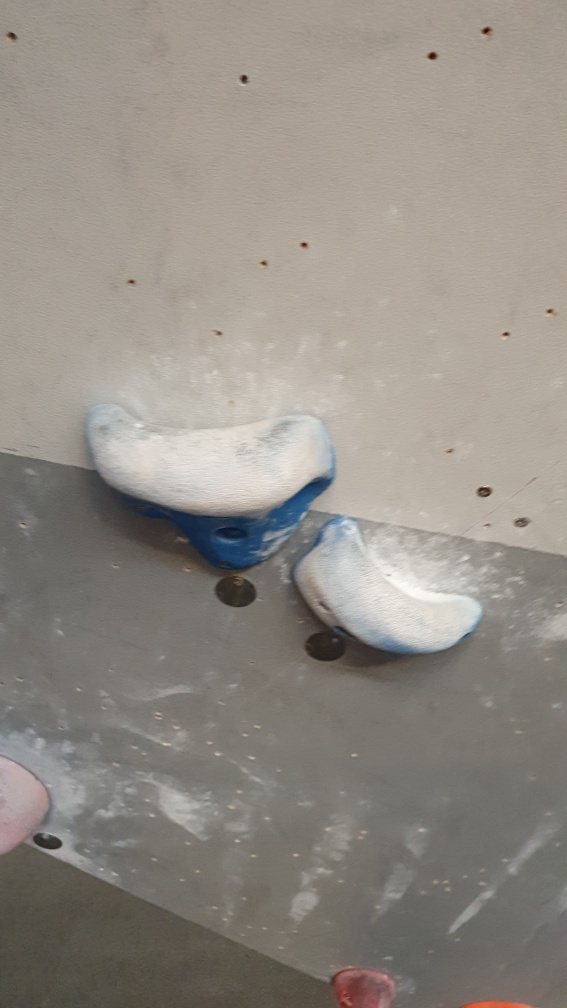Hand Start: (209, 569, 264, 621), (294, 619, 350, 670), (28, 820, 65, 854)
Jug: (86, 391, 345, 571), (293, 514, 480, 660)
Sloper: (1, 755, 69, 866), (320, 965, 405, 1008)
